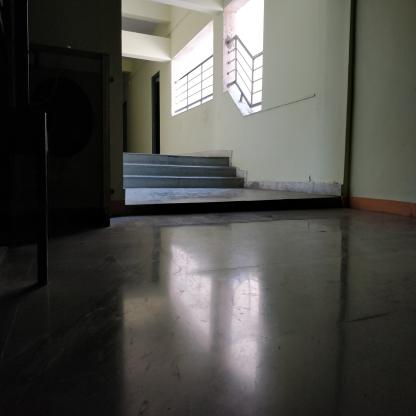stairs: (127, 154, 231, 194)
